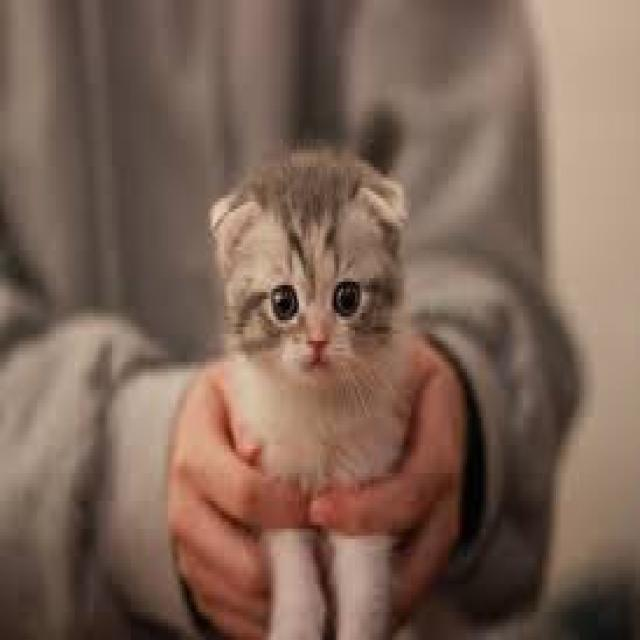cat-face: (144, 92, 458, 474)
